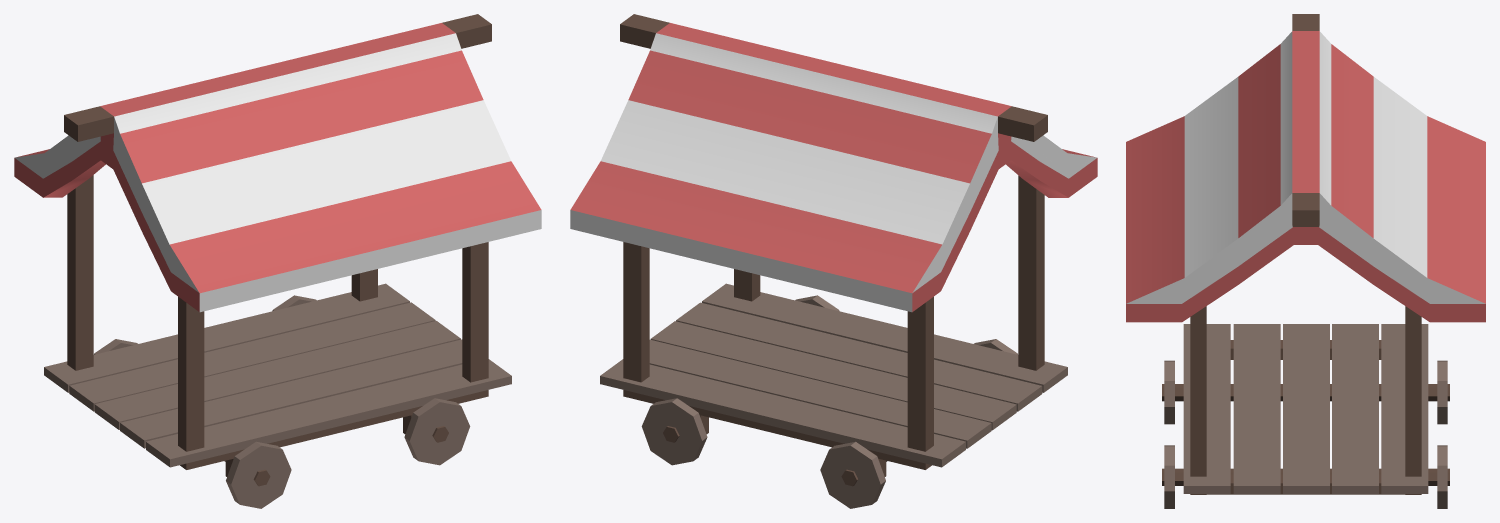
File: FMP_Wagon_shaded.fbx
The picture shows the model from 3 angles, left to right: view 1: azimuth 30°, elevation 25°; view 2: azimuth 150°, elevation 25°; view 3: azimuth 270°, elevation 25°; orthographic projection. The views are drawn at different scales.
Parts seen in each view (by area): view 1: polySurface10, polySurface11, polySurface8, polySurface6, polySurface5, polySurface7, polySurface9, polySurface4, polySurface1; view 2: polySurface10, polySurface11, polySurface9, polySurface7, polySurface6, polySurface5, polySurface8, polySurface3, polySurface2; view 3: polySurface10, polySurface7, polySurface5, polySurface6, polySurface11, polySurface8, polySurface9, polySurface1, polySurface2, polySurface3, polySurface4, polySurface12 (+1 smaller).
Part boxes in pixels (x1=…): polySurface10: x1=14, y1=14, x2=541, y2=312; polySurface11: x1=67, y1=175, x2=488, y2=476; polySurface8: x1=146, y1=359, x2=511, y2=467; polySurface6: x1=94, y1=321, x2=460, y2=429; polySurface5: x1=69, y1=302, x2=435, y2=411; polySurface7: x1=120, y1=339, x2=462, y2=448; polySurface9: x1=44, y1=283, x2=409, y2=392; polySurface4: x1=404, y1=398, x2=470, y2=465; polySurface1: x1=226, y1=441, x2=291, y2=508; polySurface10: x1=570, y1=14, x2=1097, y2=312; polySurface11: x1=623, y1=175, x2=1044, y2=476; polySurface9: x1=600, y1=359, x2=965, y2=467; polySurface7: x1=676, y1=302, x2=1042, y2=411; polySurface6: x1=650, y1=321, x2=1016, y2=430; polySurface5: x1=649, y1=339, x2=991, y2=448; polySurface8: x1=702, y1=283, x2=1067, y2=392; polySurface3: x1=641, y1=398, x2=707, y2=465; polySurface2: x1=820, y1=441, x2=885, y2=508; polySurface10: x1=1126, y1=14, x2=1485, y2=322; polySurface7: x1=1233, y1=324, x2=1280, y2=493; polySurface5: x1=1332, y1=324, x2=1378, y2=493; polySurface6: x1=1283, y1=324, x2=1329, y2=493; polySurface11: x1=1190, y1=306, x2=1421, y2=494; polySurface8: x1=1183, y1=324, x2=1230, y2=493; polySurface9: x1=1381, y1=324, x2=1428, y2=493; polySurface1: x1=1164, y1=360, x2=1174, y2=424; polySurface2: x1=1437, y1=360, x2=1447, y2=424; polySurface3: x1=1437, y1=445, x2=1447, y2=508; polySurface4: x1=1164, y1=445, x2=1174, y2=508; polySurface12: x1=1162, y1=384, x2=1449, y2=401.
Size of the model in its own units: 1217 by 1023 by 944.
